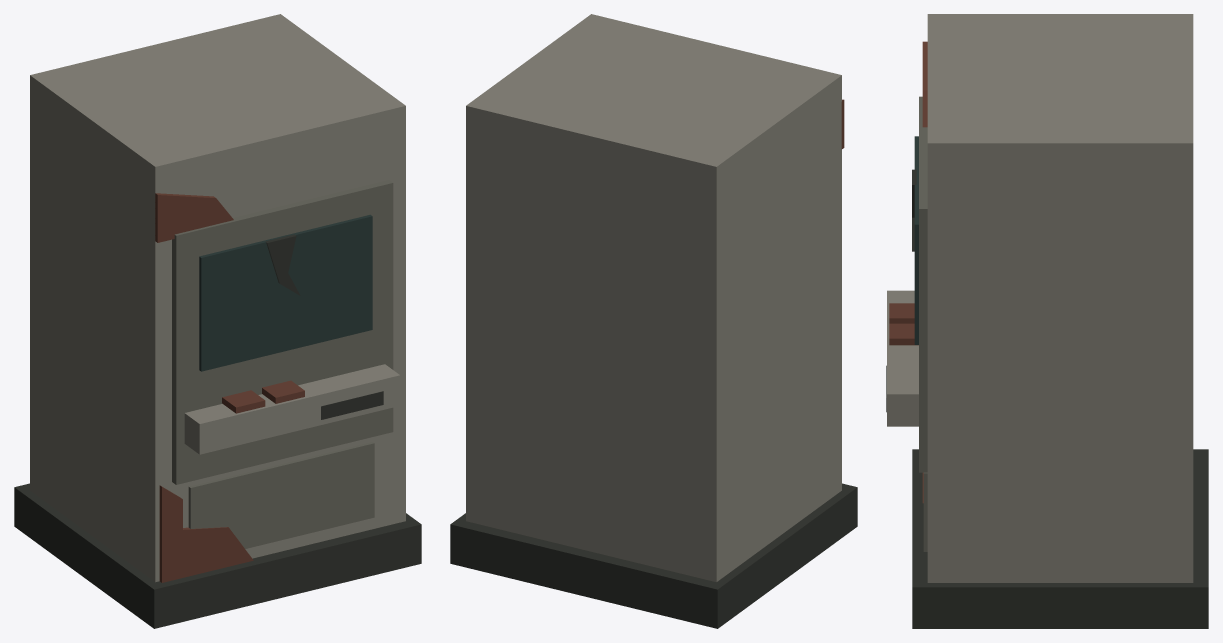
Rendered from ancient_atm.obj.
3 views of the same model, side by side, from view 1: azimuth 30°, elevation 25°; view 2: azimuth 150°, elevation 25°; view 3: azimuth 270°, elevation 25° (orthographic). The views are drawn at different scales.
Visible parts, largest first — view 1: ancient_atm; view 2: ancient_atm; view 3: ancient_atm.
Boxes of the visible parts, x1,y1,x2,y2 form: ancient_atm: (14,14,421,628); ancient_atm: (450,14,857,628); ancient_atm: (886,14,1208,628).
Bounding box in the file's own units: 0.64 × 1.04 × 0.631.
